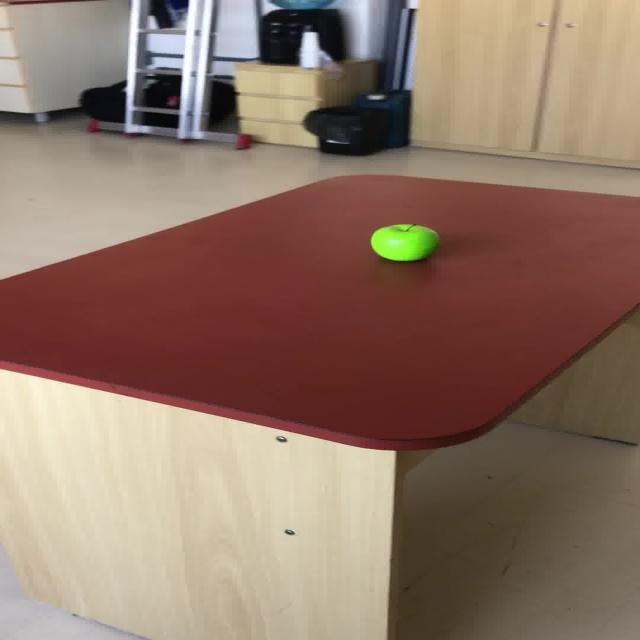apple: (369, 223, 439, 261)
